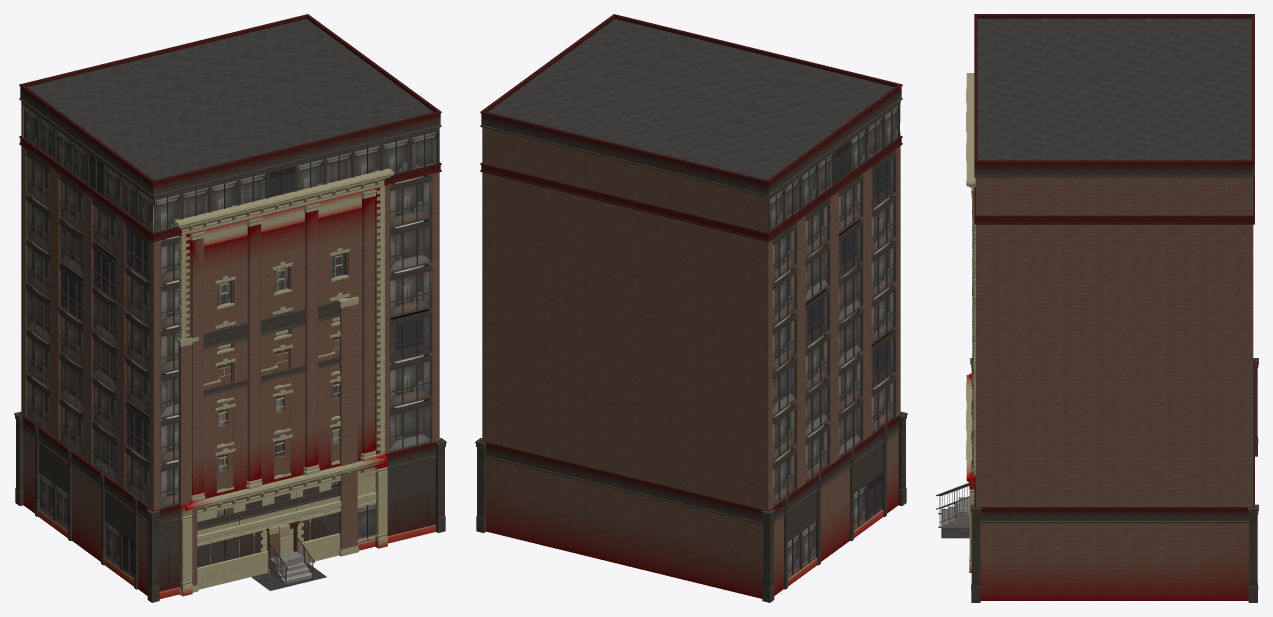
Rendered from kit-city.glb.
The picture shows the model from 3 angles, left to right: view 1: azimuth 30°, elevation 25°; view 2: azimuth 150°, elevation 25°; view 3: azimuth 270°, elevation 25°; orthographic projection. The views are drawn at different scales.
Visible parts, largest first — view 1: Building_Large_2, Building_Medium_2.001, Building_Small_1, Roof_4x4; view 2: Building_Large_2; view 3: Building_Large_2, Building_Medium_2.001, Building_Small_1.
Boxes of the visible parts, bbox=[...] form: Building_Large_2: bbox=[14, 14, 446, 602]; Building_Medium_2.001: bbox=[174, 168, 394, 596]; Building_Small_1: bbox=[177, 296, 358, 595]; Roof_4x4: bbox=[251, 563, 326, 590]; Building_Large_2: bbox=[475, 14, 907, 602]; Building_Large_2: bbox=[970, 14, 1258, 602]; Building_Medium_2.001: bbox=[966, 73, 975, 572]; Building_Small_1: bbox=[936, 200, 972, 527].
Size of the model in its own units: 20.64 by 28.2 by 18.63.
13 materials, 11 textured.
